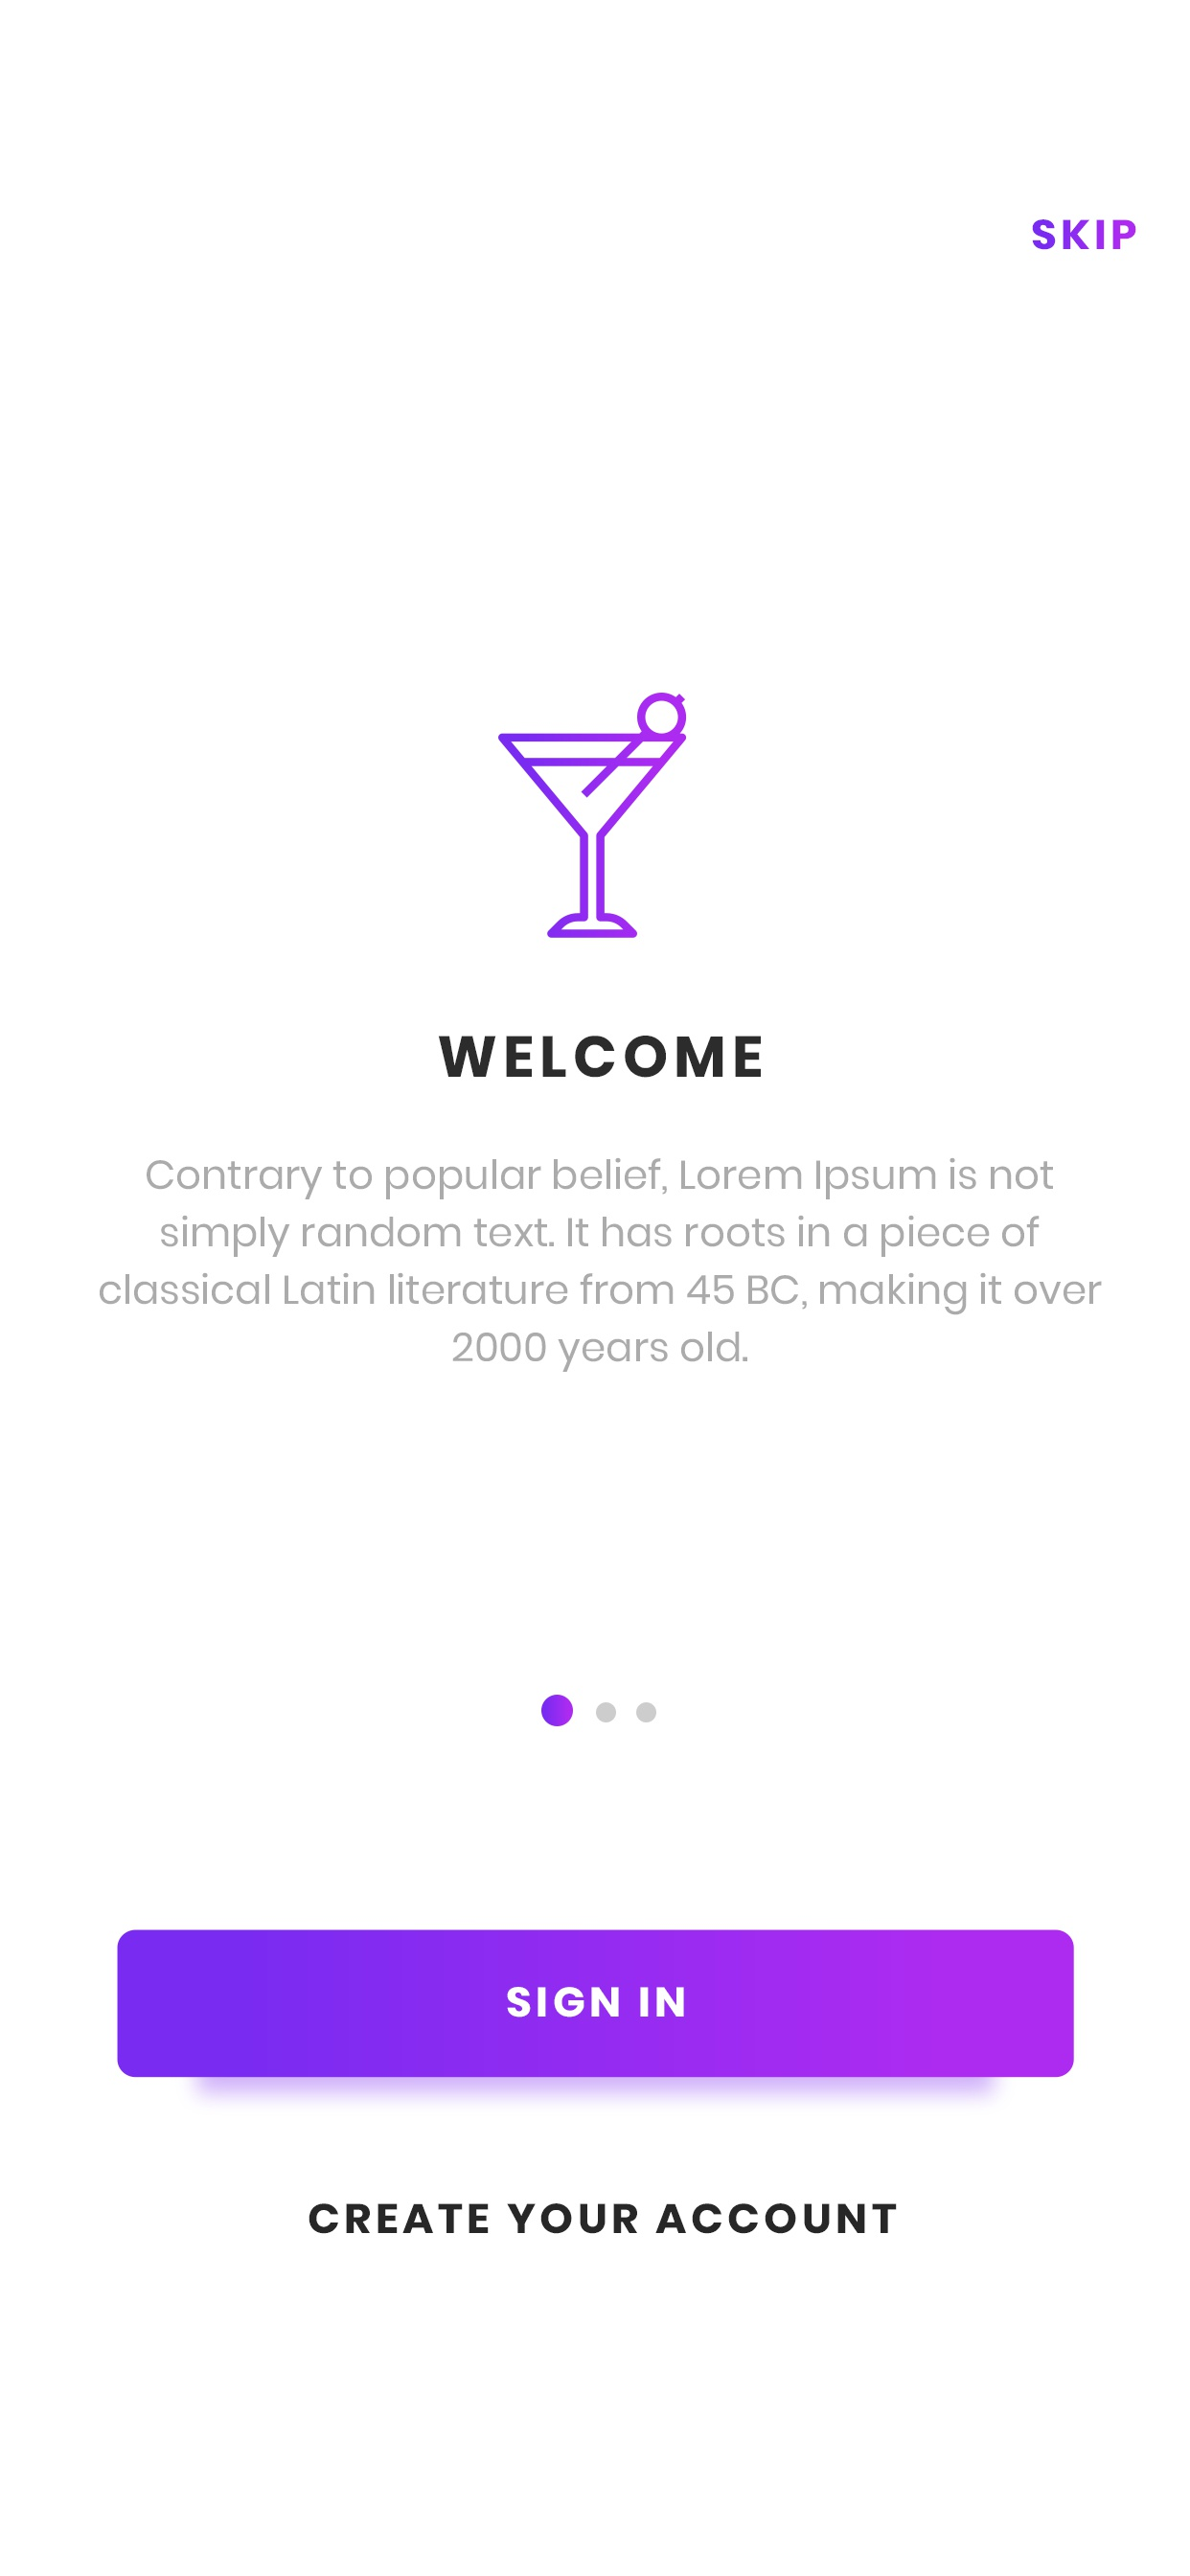Image: (498, 693, 689, 940)
PageIndicator: (541, 1694, 657, 1727)
Text: (100, 1157, 1103, 1373), (309, 2203, 897, 2234), (439, 1035, 761, 1078), (1032, 220, 1136, 251)
TextButton: (118, 1929, 1075, 2078)
